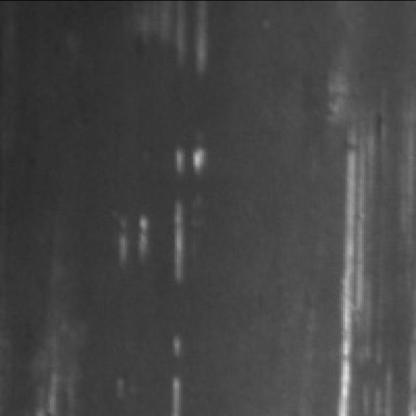scratches: (333, 81, 385, 412)
